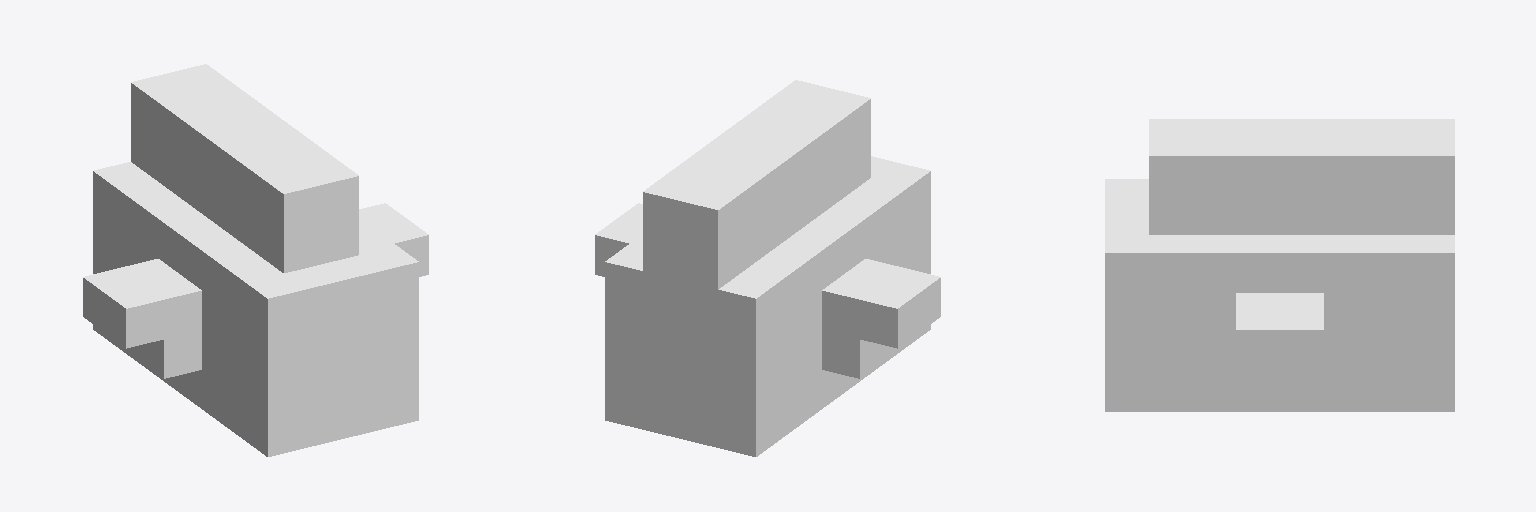
Rendered from OBJ_BlueTang.obj.
3 views of the same model, side by side, from view 1: azimuth 30°, elevation 25°; view 2: azimuth 150°, elevation 25°; view 3: azimuth 270°, elevation 25° (orthographic).
Parts seen in each view (by area): view 1: object 1; view 2: object 1; view 3: object 1.
Part boxes in pixels (x1,y1,x2,y2): object 1: (83, 64, 428, 456); object 1: (595, 80, 940, 456); object 1: (1105, 119, 1454, 411).
Bounding box in the file's own units: 0.8 × 0.6 × 0.8.